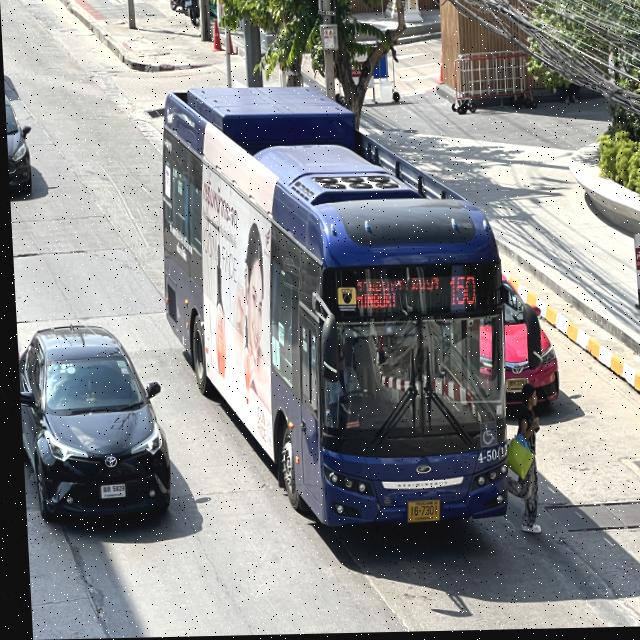Bus-Line-Number: (441, 272, 479, 312)
Destination-Sign-Normal: (348, 273, 442, 319)
TSB-Bus: (152, 84, 509, 535)
